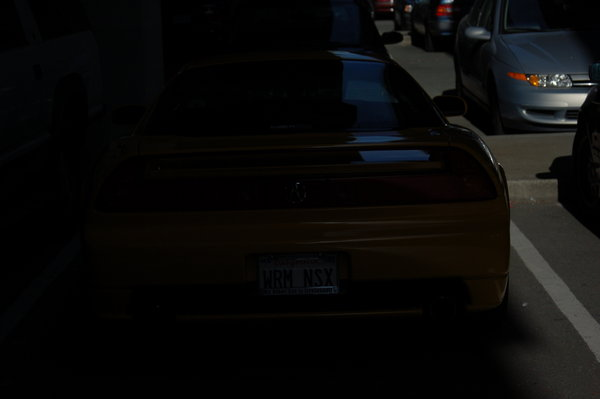car: (63, 33, 529, 346)
